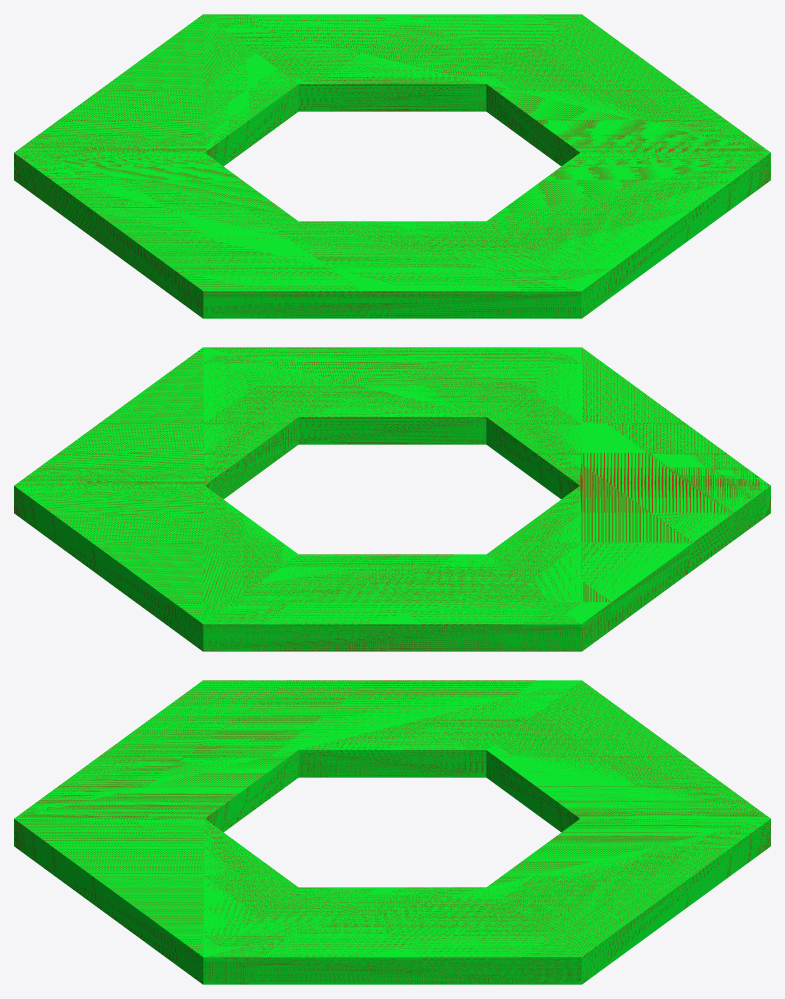
Rendered from test_track.dae.
3 views of the same model, one above another, from view 1: azimuth 30°, elevation 25°; view 2: azimuth 150°, elevation 25°; view 3: azimuth 270°, elevation 25° (orthographic).
Visible parts, largest first — view 1: SketchUp (×2); view 2: SketchUp (×2); view 3: SketchUp (×2).
Part boxes in pixels (box(x1,y1,x2,y2)): SketchUp (×2): box(14, 14, 770, 318); SketchUp (×2): box(14, 347, 770, 651); SketchUp (×2): box(14, 680, 770, 984).
Bounding box in the file's own units: 186 × 214 × 8.62.
